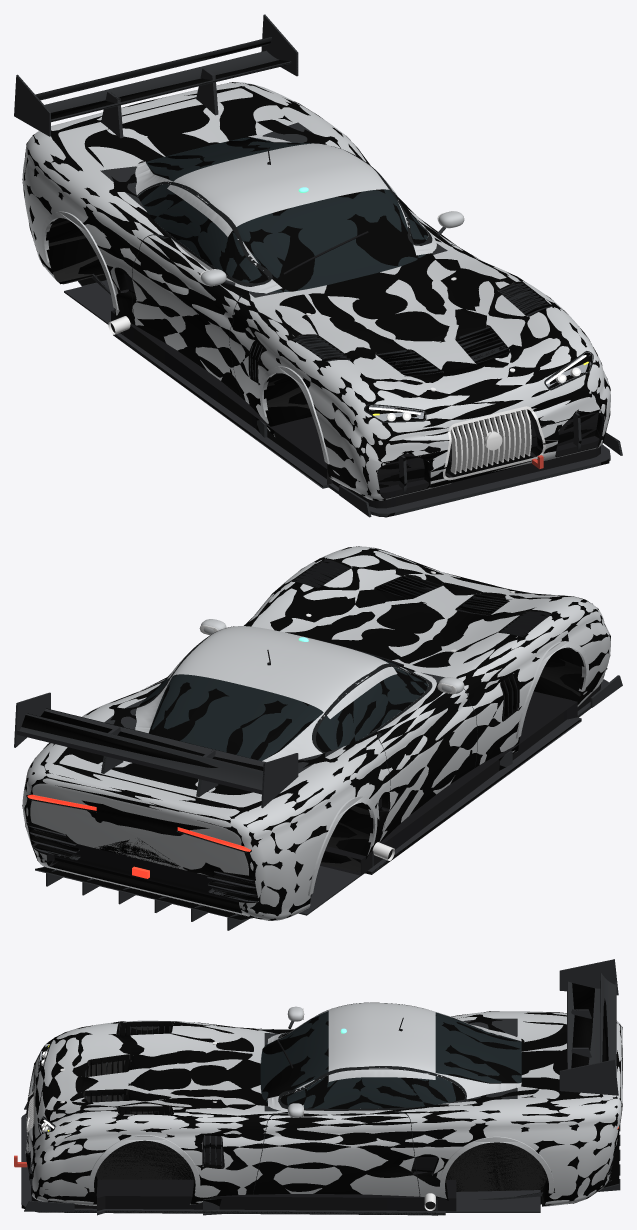
File: mercedes.glb
3 views of the same model, one above another, from view 1: azimuth 30°, elevation 25°; view 2: azimuth 150°, elevation 25°; view 3: azimuth 270°, elevation 25° (orthographic). The views are drawn at different scales.
Parts seen in each view (by area): view 1: Shadow, Body, Carbon, Paint, Cabin, Grille, Chrome, Trim; view 2: Shadow, Body, Carbon, Paint, Cabin, Grille, Trim, LightR, Chrome; view 3: Body, Shadow, Paint, Carbon, Cabin, Grille, Trim, Chrome.
Part boxes in pixels (box(x1,y1,x2,y2)): Shadow: box(18, 37, 621, 517); Body: box(22, 82, 610, 500); Carbon: box(14, 14, 622, 517); Paint: box(41, 135, 464, 464); Cabin: box(138, 137, 427, 292); Grille: box(111, 147, 600, 508); Chrome: box(108, 211, 580, 480); Trim: box(131, 146, 593, 422); Shadow: box(21, 546, 610, 920); Body: box(22, 546, 610, 920); Carbon: box(14, 559, 622, 930); Paint: box(135, 619, 588, 895); Cabin: box(142, 652, 427, 760); Grille: box(267, 636, 600, 875); Trim: box(137, 547, 592, 841); LightR: box(27, 794, 251, 878); Chrome: box(199, 571, 515, 860); Body: box(26, 1011, 622, 1206); Shadow: box(21, 959, 622, 1215); Paint: box(89, 1002, 553, 1193); Carbon: box(21, 959, 620, 1215); Cabin: box(260, 1011, 521, 1108); Grille: box(31, 1017, 456, 1211); Trim: box(37, 1002, 466, 1196); Chrome: box(25, 1008, 435, 1210).
Bounding box in the file's own units: 2.13 × 1.34 × 4.81.
